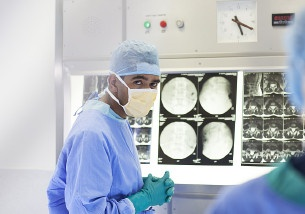Mask: (116, 73, 159, 116)
